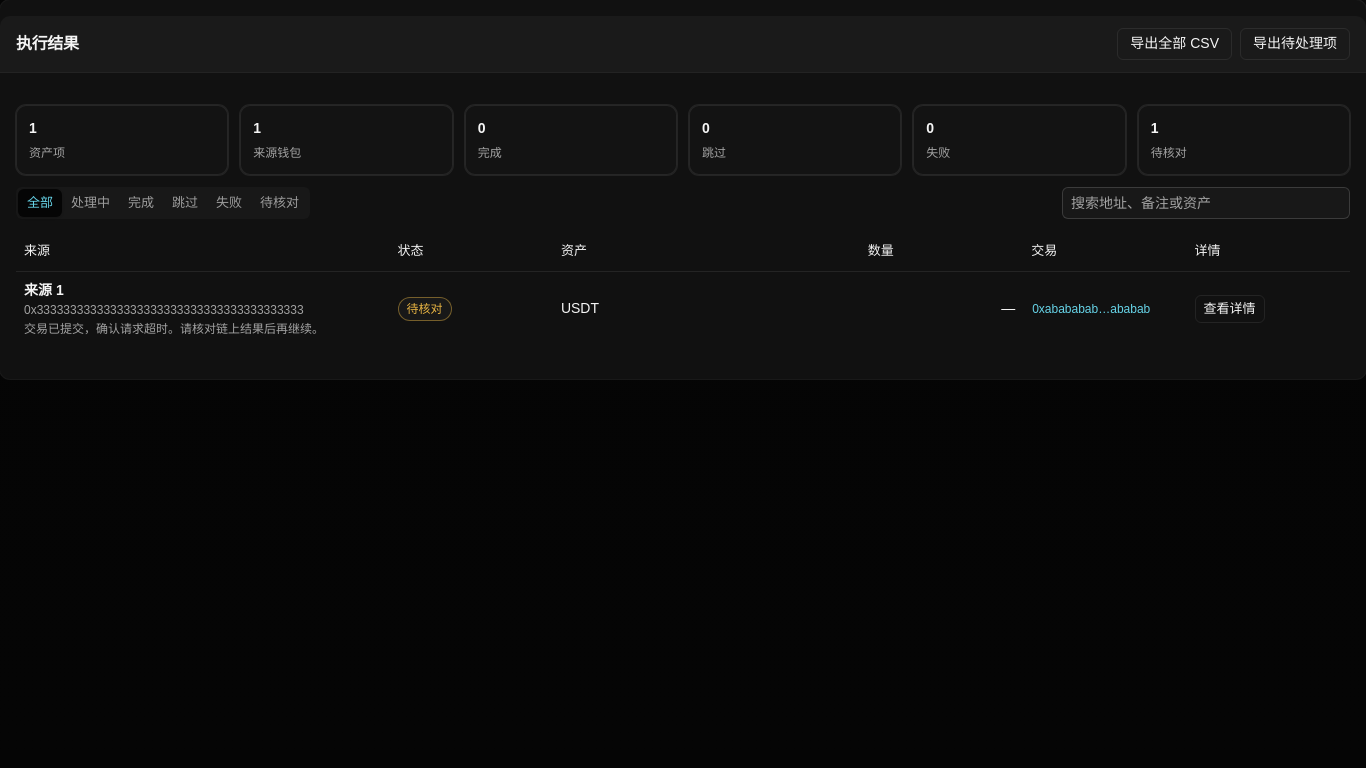
Test: CollectionResults › opens a full uncertain record, copies its hash and restores focus when closed
This screenshot has width=1366, height=768.
Expected: the icon "待核对" is shown, [398,297,452,321]
Click the button with aria-label "查看来源 1的详情": coordinates (1230, 309) [1194,295,1264,323]
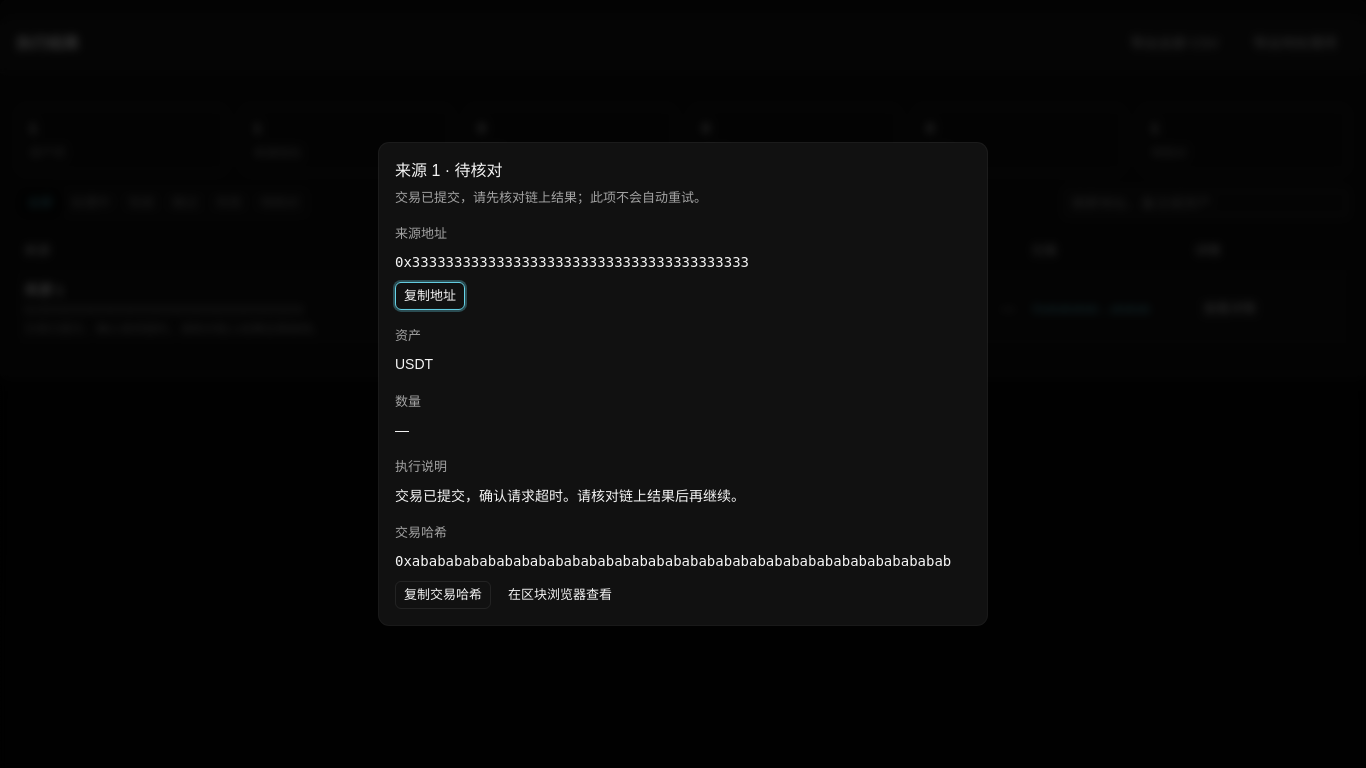
Now the text "交易已提交，确认请求超时。请核对链上结果后再继续。" is shown, box [395,488,745,504]
Now the text "0x3333333333333333333333333333333333333333" is shown, box [395,254,749,270]
Click the button "复制交易哈希": coordinates (443, 595) [395,581,491,609]
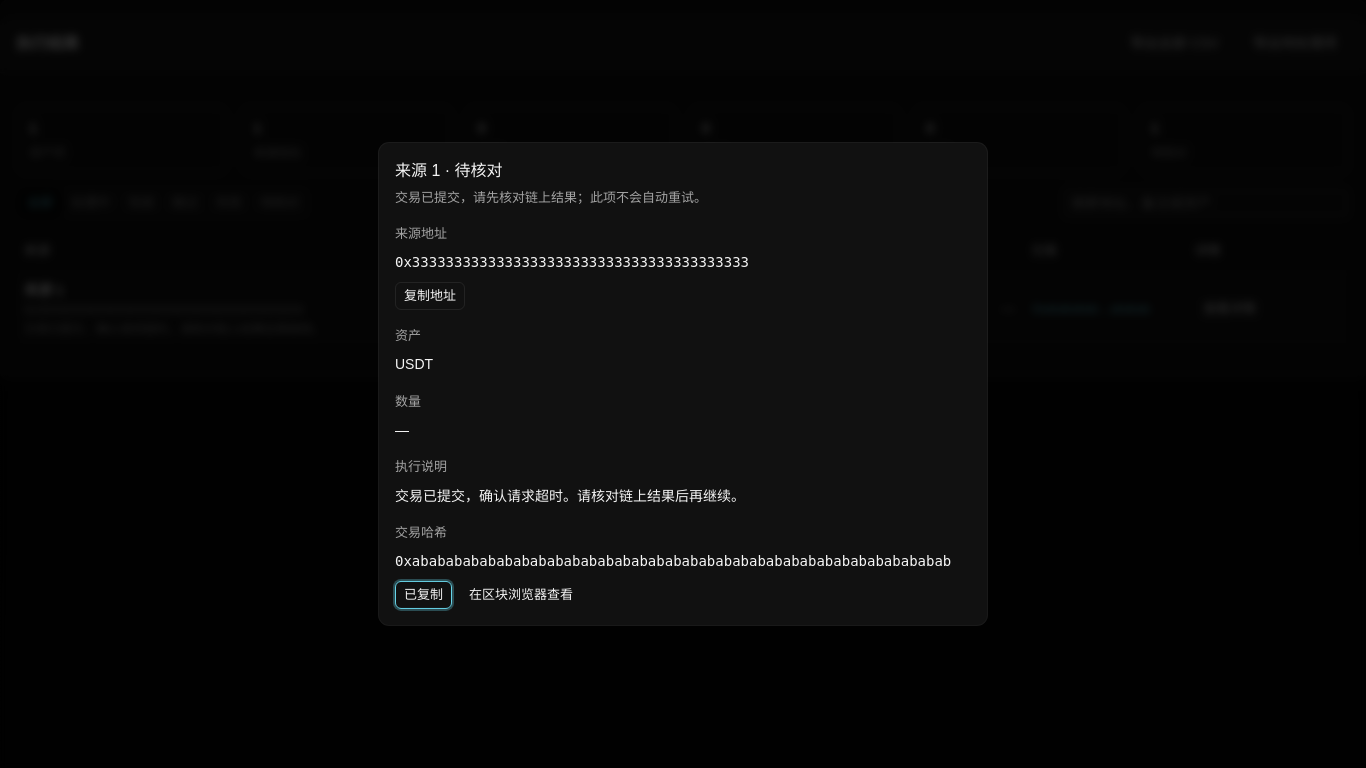
Now the button with aria-label "复制交易哈希：已复制" is shown, box [395,581,452,609]
Press Escape
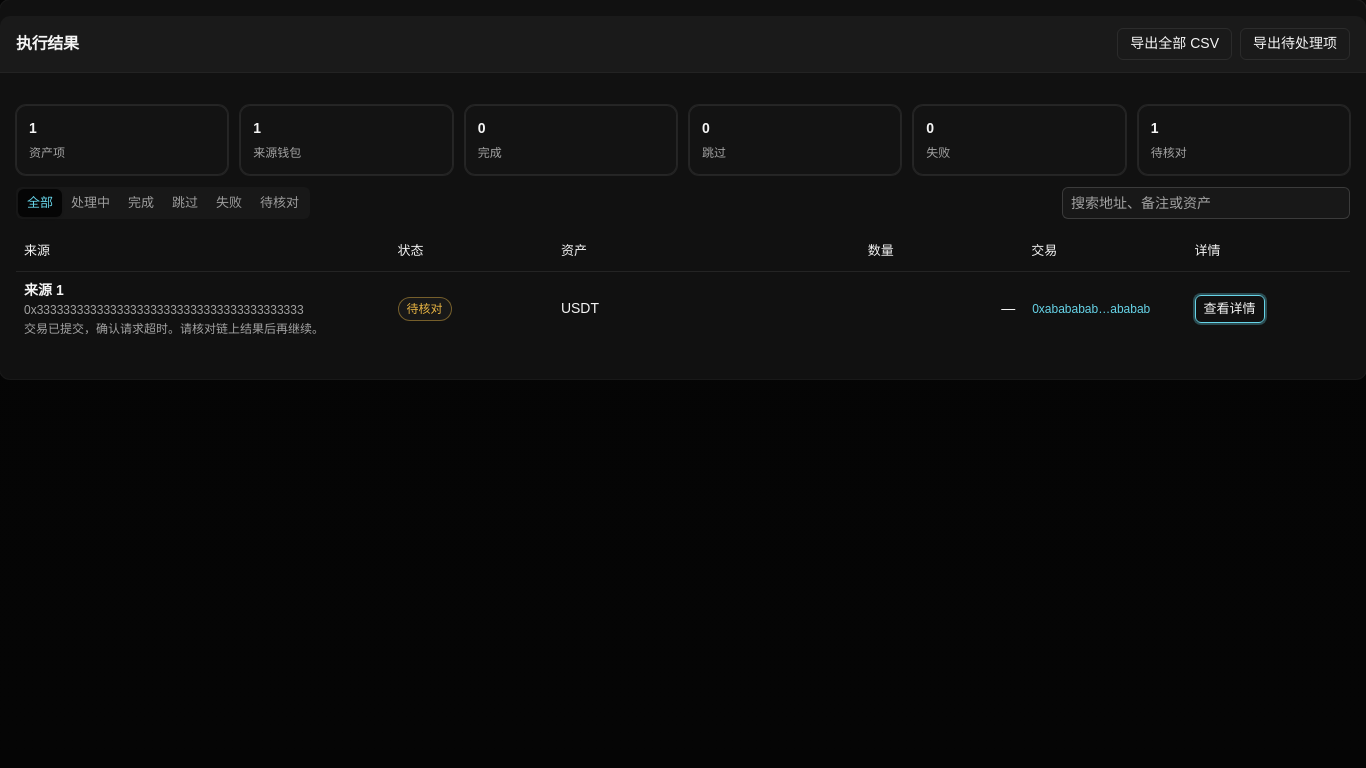
Click the tab "失败": coordinates (229, 203) [207,189,251,217]
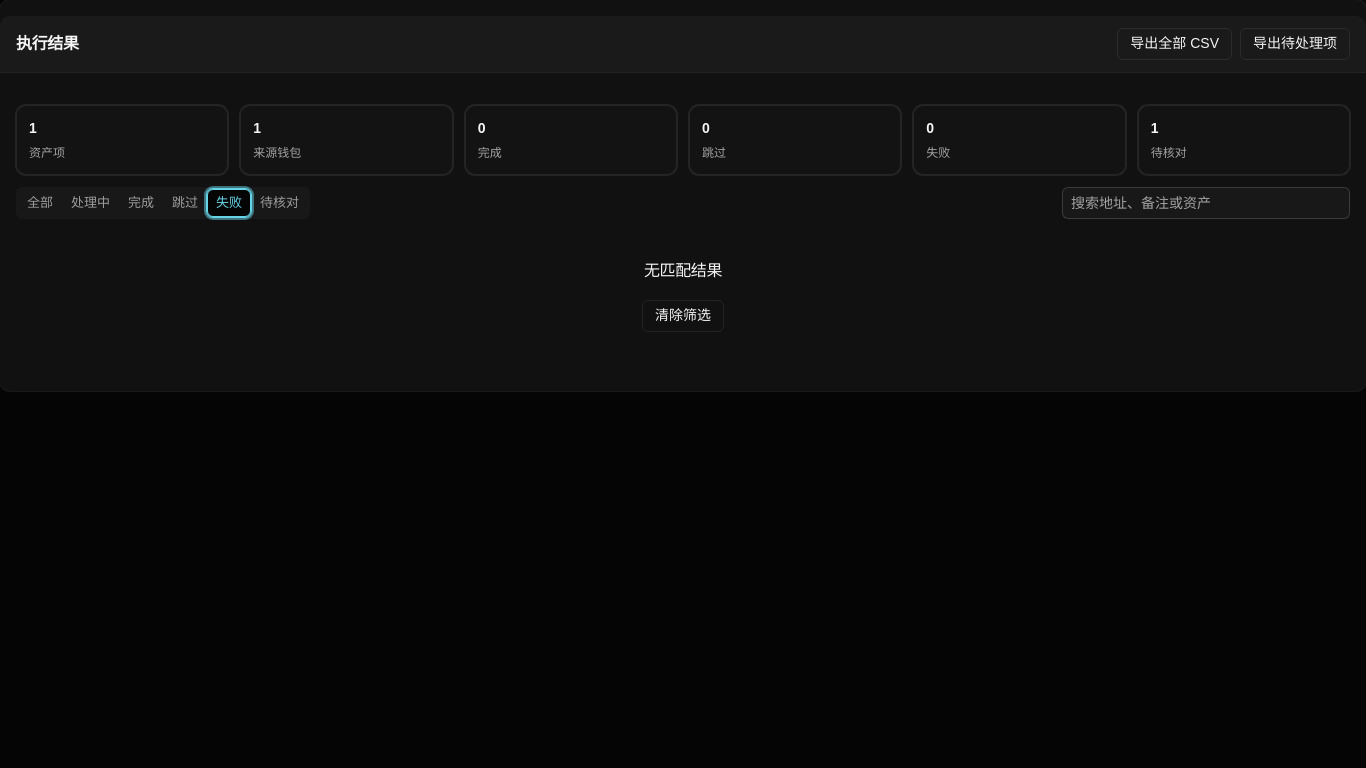
Now the text "无匹配结果" is shown, box [644,259,722,284]
Click the tab "待核对": coordinates (280, 203) [251,189,308,217]
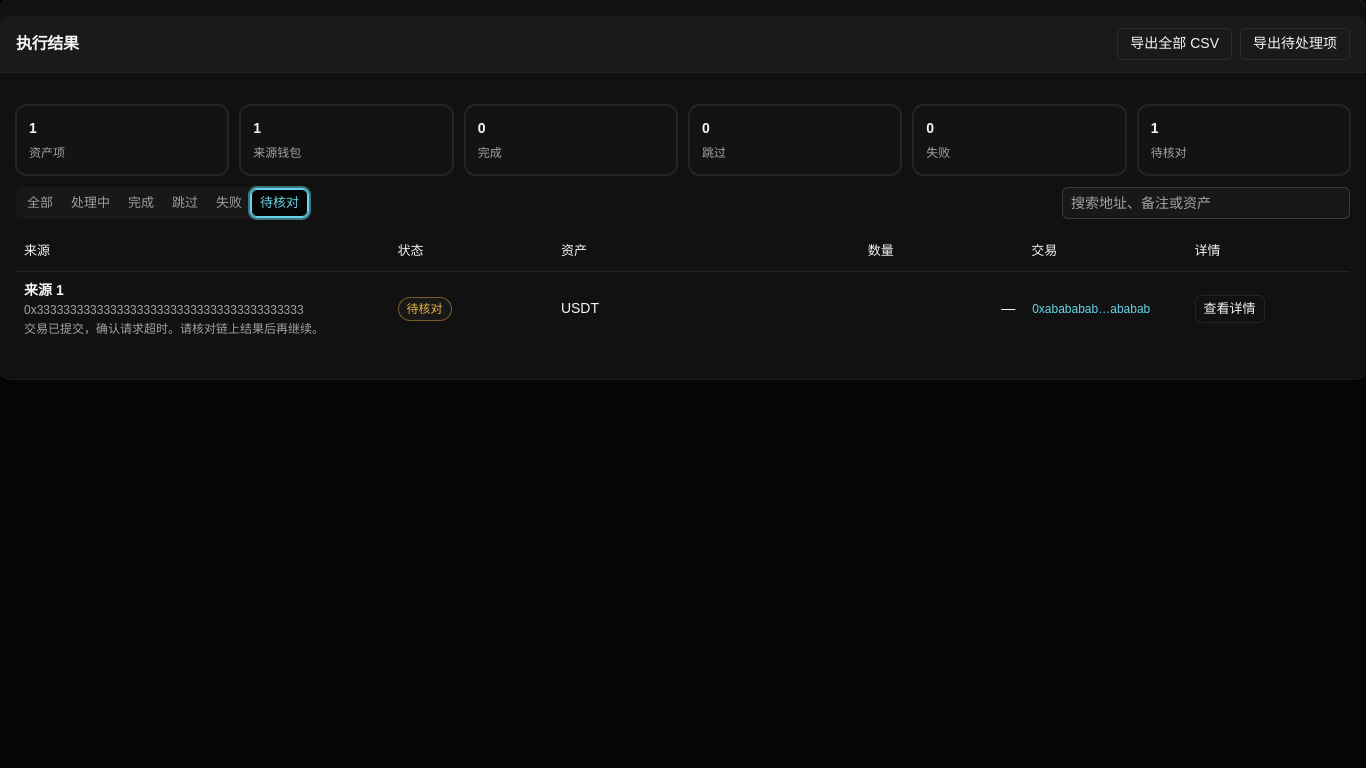
Now the table named "归集结果" shows "待核对", box [406,302,442,316]
